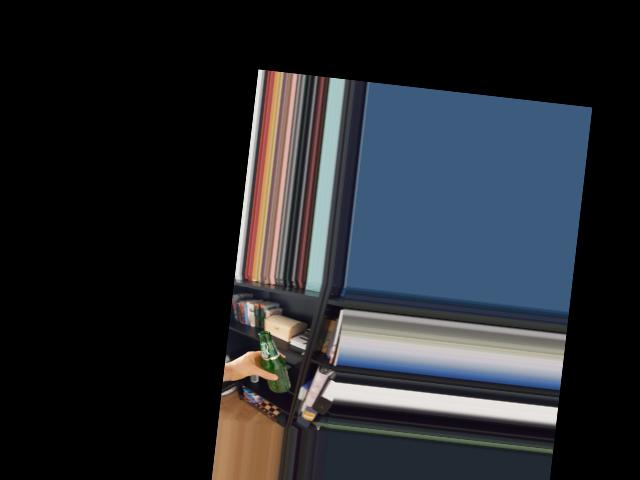beer: (252, 330, 297, 394)
